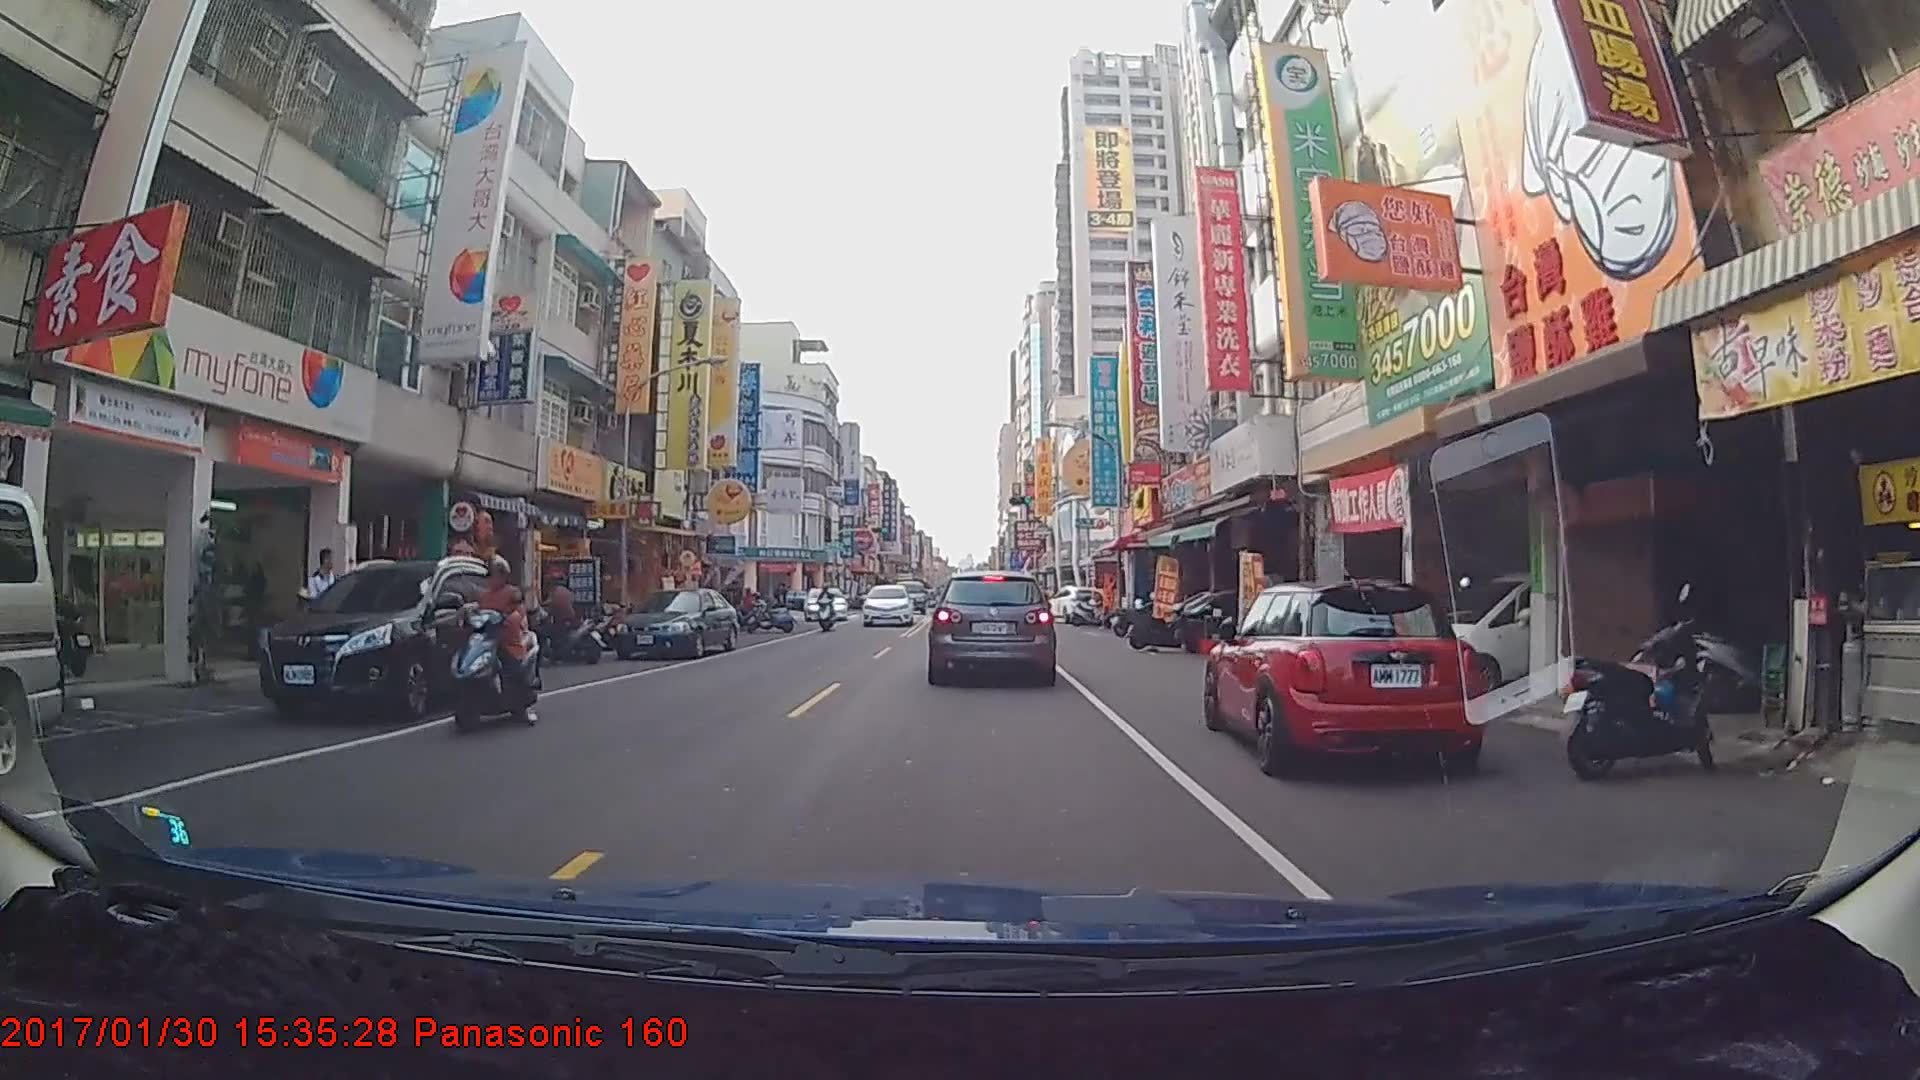rider: (436, 552, 540, 736), (813, 582, 841, 633)
vehicle: (1206, 575, 1483, 772), (257, 553, 529, 723), (927, 567, 1056, 684), (608, 587, 738, 659), (1041, 581, 1100, 621), (859, 583, 914, 625), (802, 584, 846, 618)
